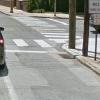Crosswalk: (14, 30, 69, 56)
